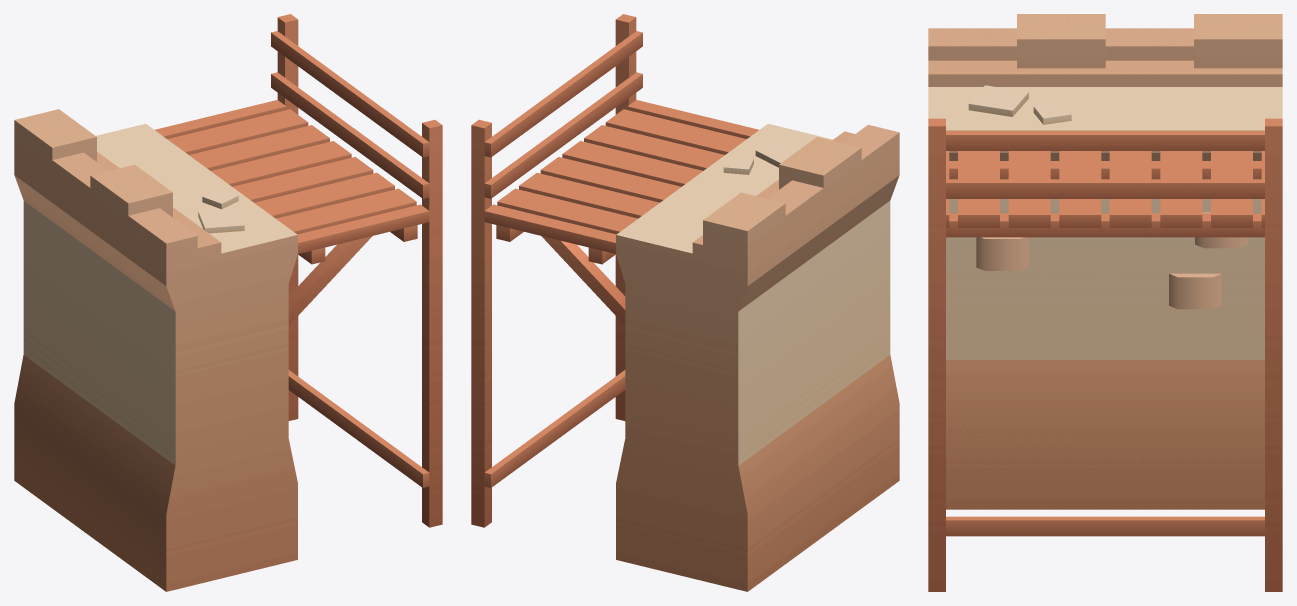
Rendered from wall-narrow-wood-fence.glb.
3 views of the same model, side by side, from view 1: azimuth 30°, elevation 25°; view 2: azimuth 150°, elevation 25°; view 3: azimuth 270°, elevation 25° (orthographic). The views are drawn at different scales.
Visible parts, largest first — view 1: wall-narrow-wood-fence; view 2: wall-narrow-wood-fence; view 3: wall-narrow-wood-fence.
Part boxes in pixels (x1=…): wall-narrow-wood-fence: x1=14, y1=14, x2=442, y2=591; wall-narrow-wood-fence: x1=471, y1=14, x2=899, y2=591; wall-narrow-wood-fence: x1=928, y1=14, x2=1282, y2=591.
Bounding box in the file's own units: 1.05 × 1.45 × 1.
1 material, 1 textured.
